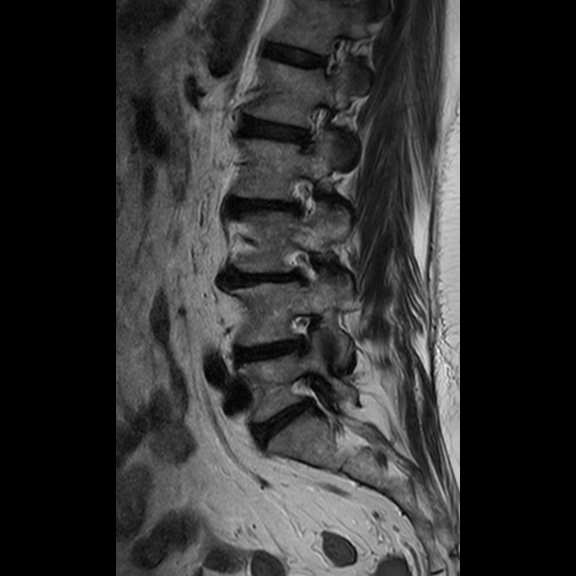LFS0: (277, 163, 331, 232), (277, 237, 330, 290)
LFS1: (278, 299, 323, 363)
